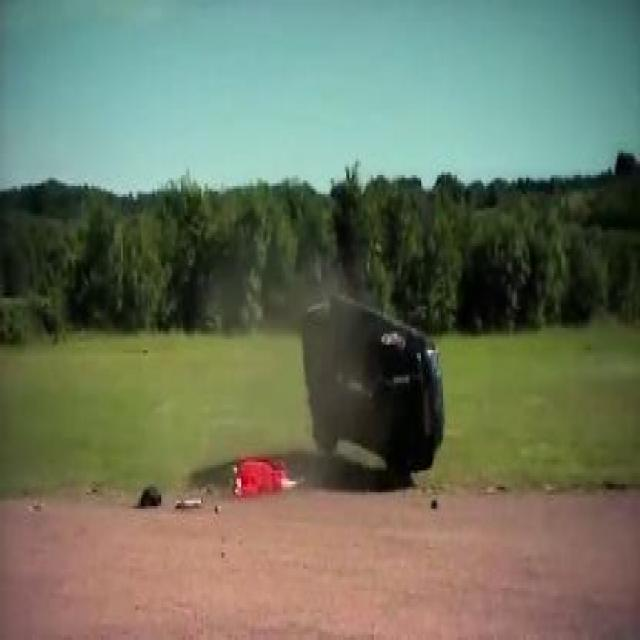accident: (298, 282, 444, 487)
